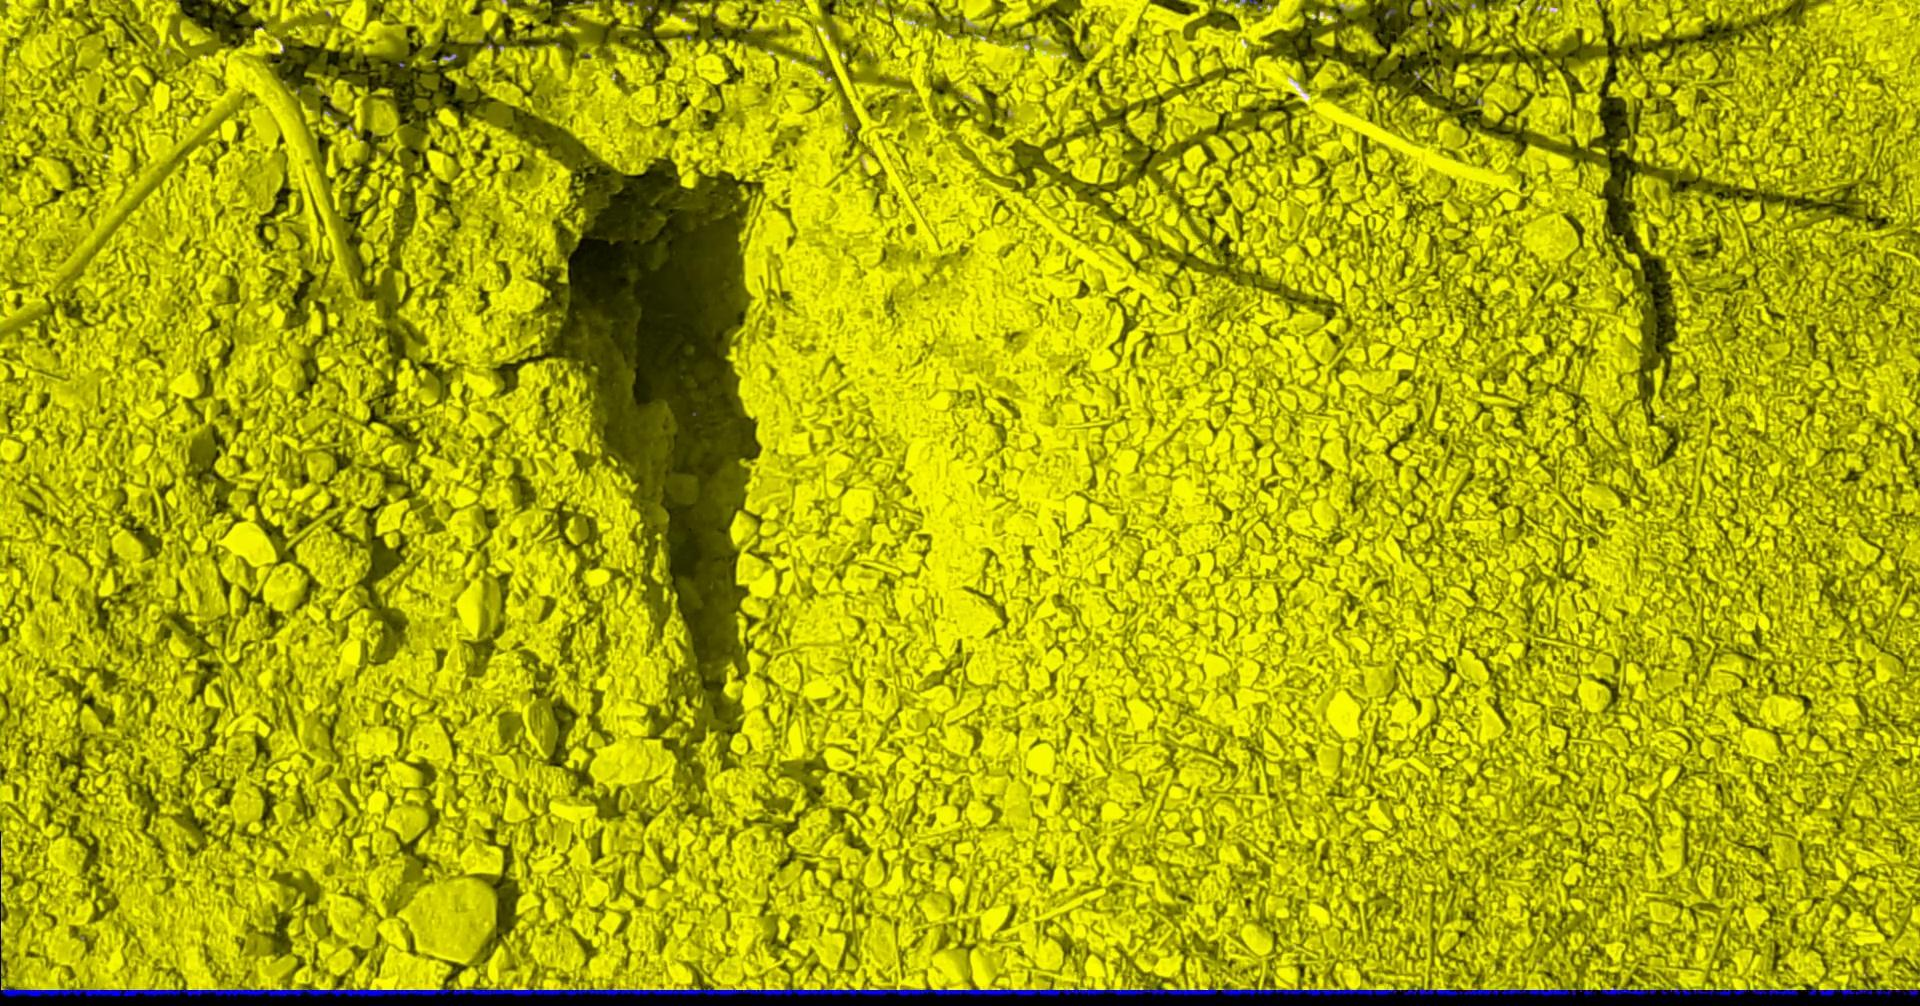ant: (1807, 988, 1919, 995), (1660, 989, 1797, 995), (1599, 986, 1655, 995)
